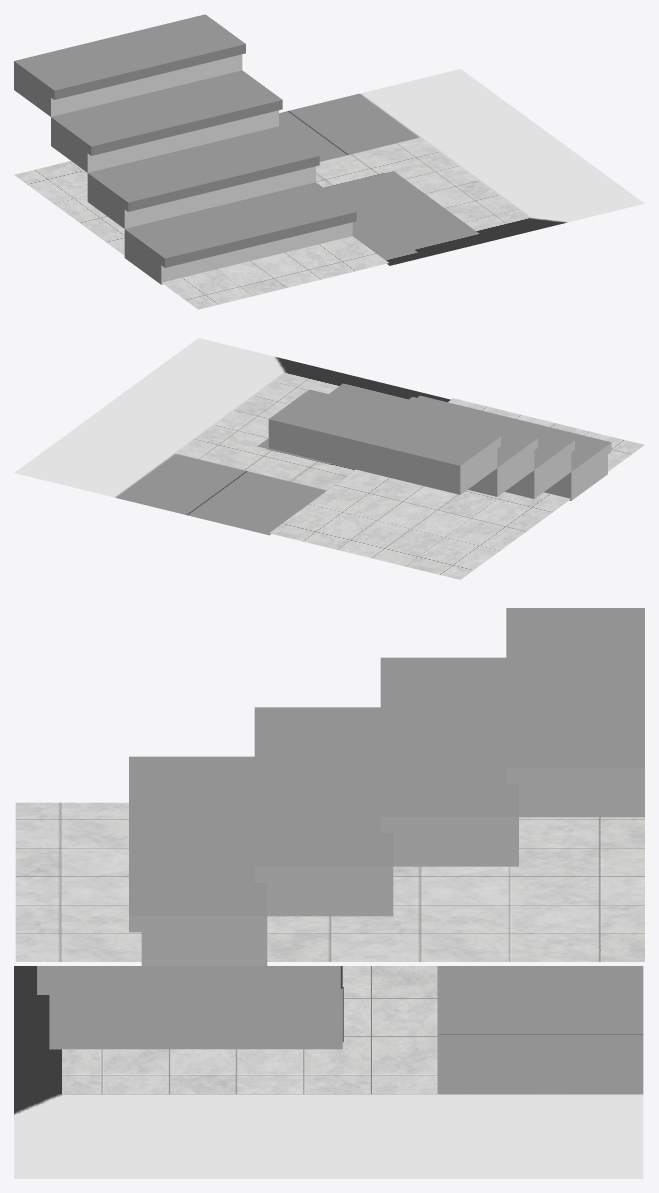
Rendered from stairs2.fbx.
3 renders of one model, top to bottom at view 1: azimuth 30°, elevation 25°; view 2: azimuth 150°, elevation 25°; view 3: azimuth 270°, elevation 25°, orthographic. The views are drawn at different scales.
Visible parts, largest first — view 1: FloorPlaneWhite1, Stairs3, Stairs1, Stairs2, Stairs4, FloorPlaneWhite; view 2: FloorPlaneWhite1, FloorPlaneWhite, Stairs1, Stairs3, Stairs2, Stairs4; view 3: FloorPlaneWhite1, FloorPlaneWhite, Stairs1, Stairs3, Stairs2, Stairs4.
Part boxes in pixels (x1=…): FloorPlaneWhite1: x1=279, y1=69, x2=644, y2=265; Stairs3: x1=87, y1=126, x2=319, y2=228; Stairs1: x1=14, y1=14, x2=245, y2=116; Stairs2: x1=51, y1=70, x2=282, y2=172; Stairs4: x1=124, y1=182, x2=356, y2=284; FloorPlaneWhite: x1=14, y1=161, x2=388, y2=309; FloorPlaneWhite1: x1=14, y1=338, x2=450, y2=535; FloorPlaneWhite: x1=269, y1=398, x2=644, y2=579; Stairs1: x1=268, y1=389, x2=500, y2=494; Stairs3: x1=376, y1=393, x2=574, y2=498; Stairs2: x1=339, y1=391, x2=537, y2=496; Stairs4: x1=413, y1=395, x2=611, y2=500; FloorPlaneWhite1: x1=14, y1=966, x2=643, y2=1178; FloorPlaneWhite: x1=15, y1=802, x2=644, y2=961; Stairs1: x1=506, y1=608, x2=644, y2=817; Stairs3: x1=254, y1=707, x2=393, y2=916; Stairs2: x1=380, y1=657, x2=518, y2=866; Stairs4: x1=129, y1=756, x2=267, y2=965.
Size of the model in its own units: 6.99 by 1.74 by 5.01.
